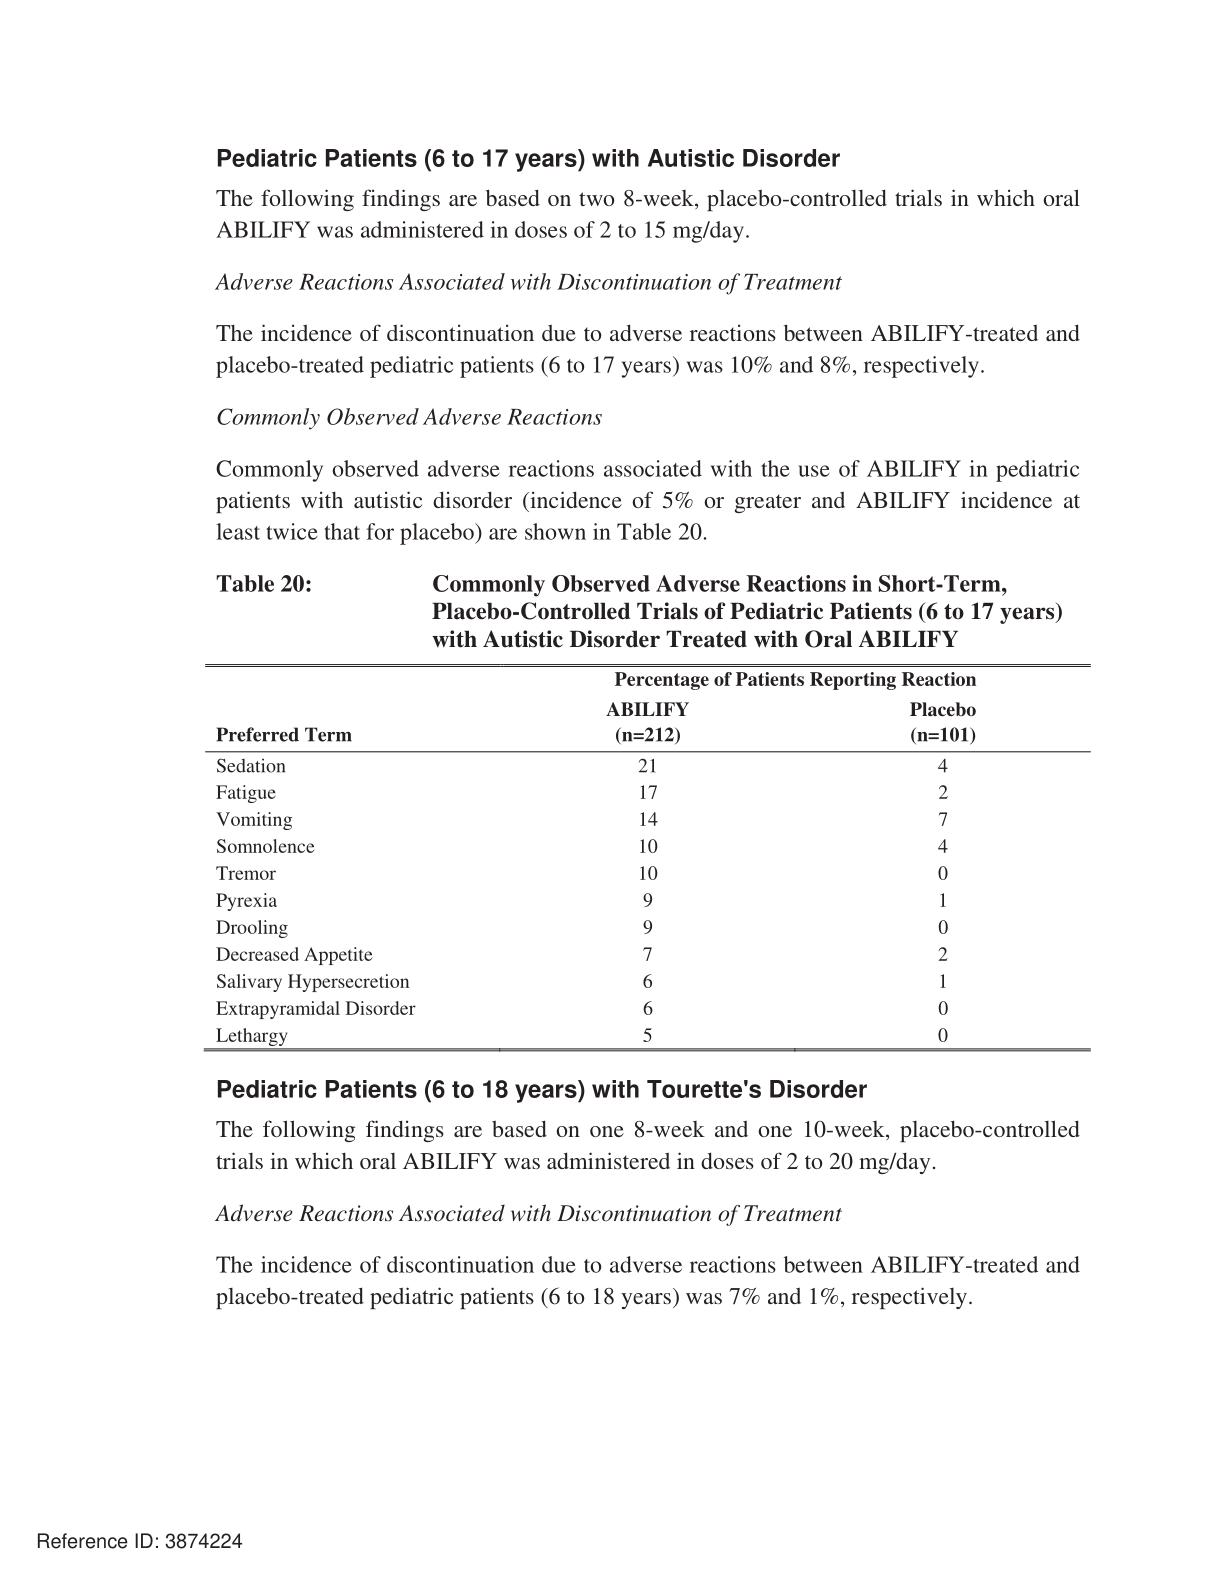partial_lined_merged_cells: (204, 663, 1092, 1052)
